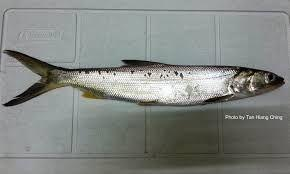Tenpounder: (5, 42, 290, 118)
